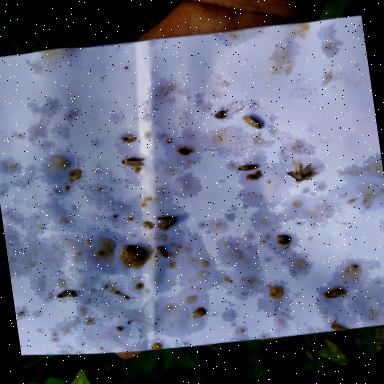pbw: (285, 160, 322, 186), (120, 152, 145, 171), (241, 113, 266, 132), (122, 244, 144, 261), (236, 160, 258, 173), (156, 214, 176, 227), (246, 169, 263, 181), (154, 245, 166, 259)
